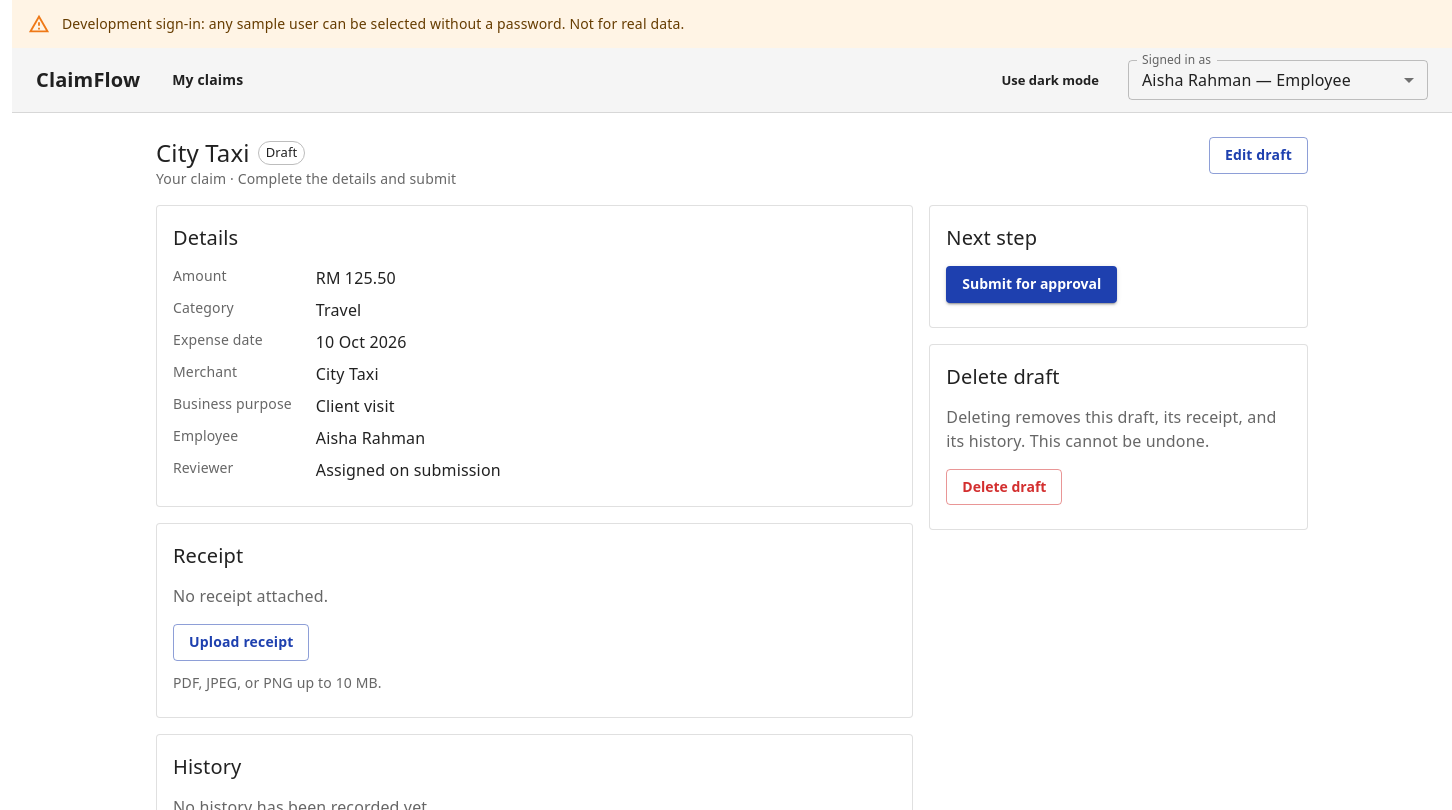
Test: inline editing › opens the form in the claim page without loading the claim again
Click the link "Edit draft" at (1258, 155), box [1209,137,1308,174]
(page scrolled)
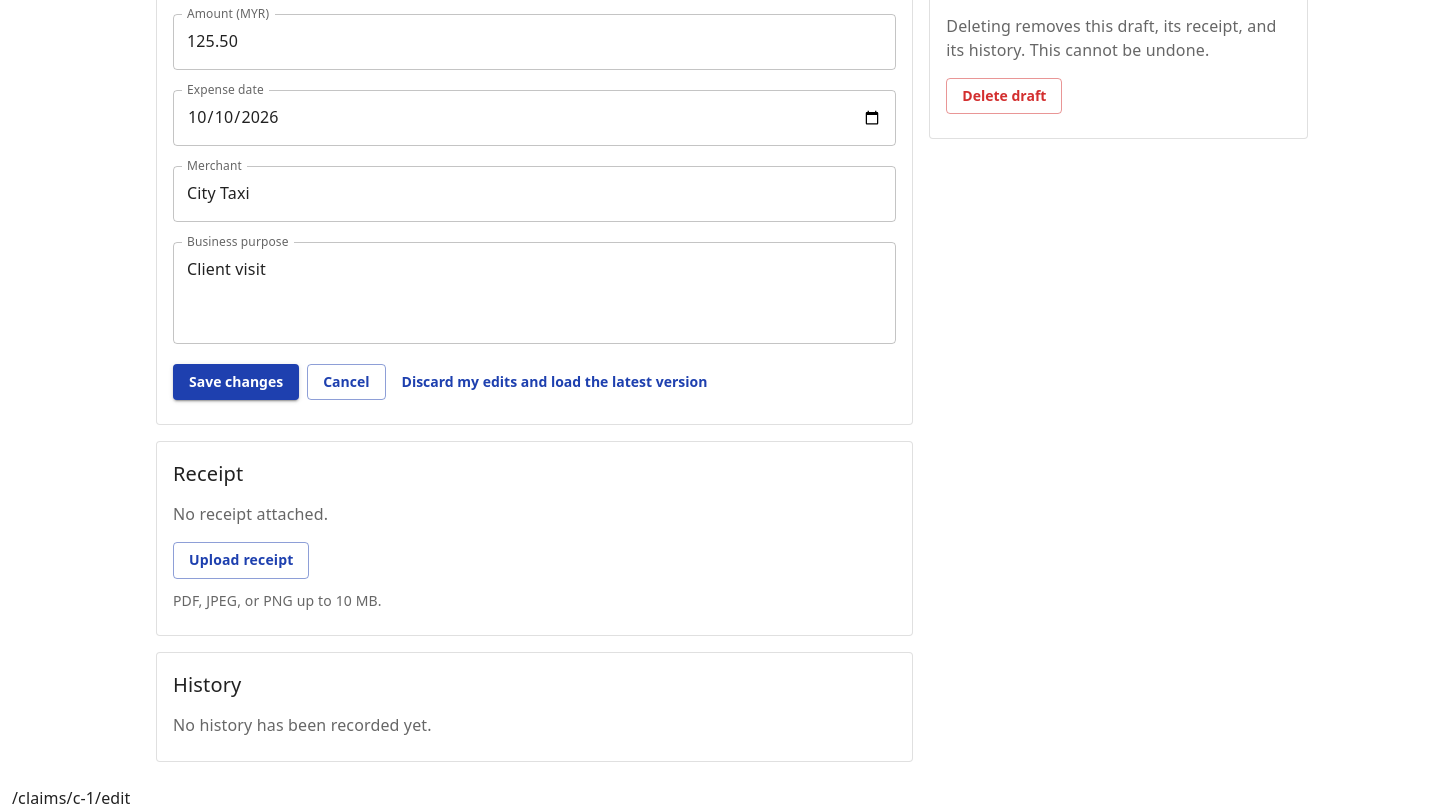
expect the field labelled "Merchant" holds "City Taxi": met, box [173,166,896,222]
expect the text named "location" reads "/claims/c-1/edit": met, box [12,787,130,809]
expect the link "Edit draft" is gone: met
